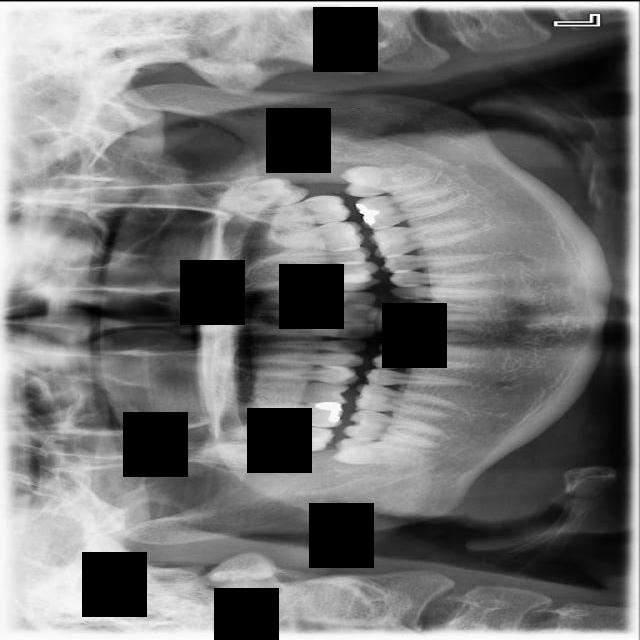3M ESPE Implant: (197, 439, 293, 469)
52: (350, 201, 380, 227), (314, 401, 342, 421)
73: (532, 70, 540, 72)
BioHorizons Implant: (239, 194, 350, 223)
BioLife Implant: (210, 174, 309, 211)
Biomet 3i Implant: (339, 165, 435, 197)
Blue Sky Bio Implant: (353, 186, 463, 230)
Caries: (219, 421, 335, 452)
Implant: (341, 407, 446, 446)
Keystone Dental Implant: (332, 435, 422, 468)
